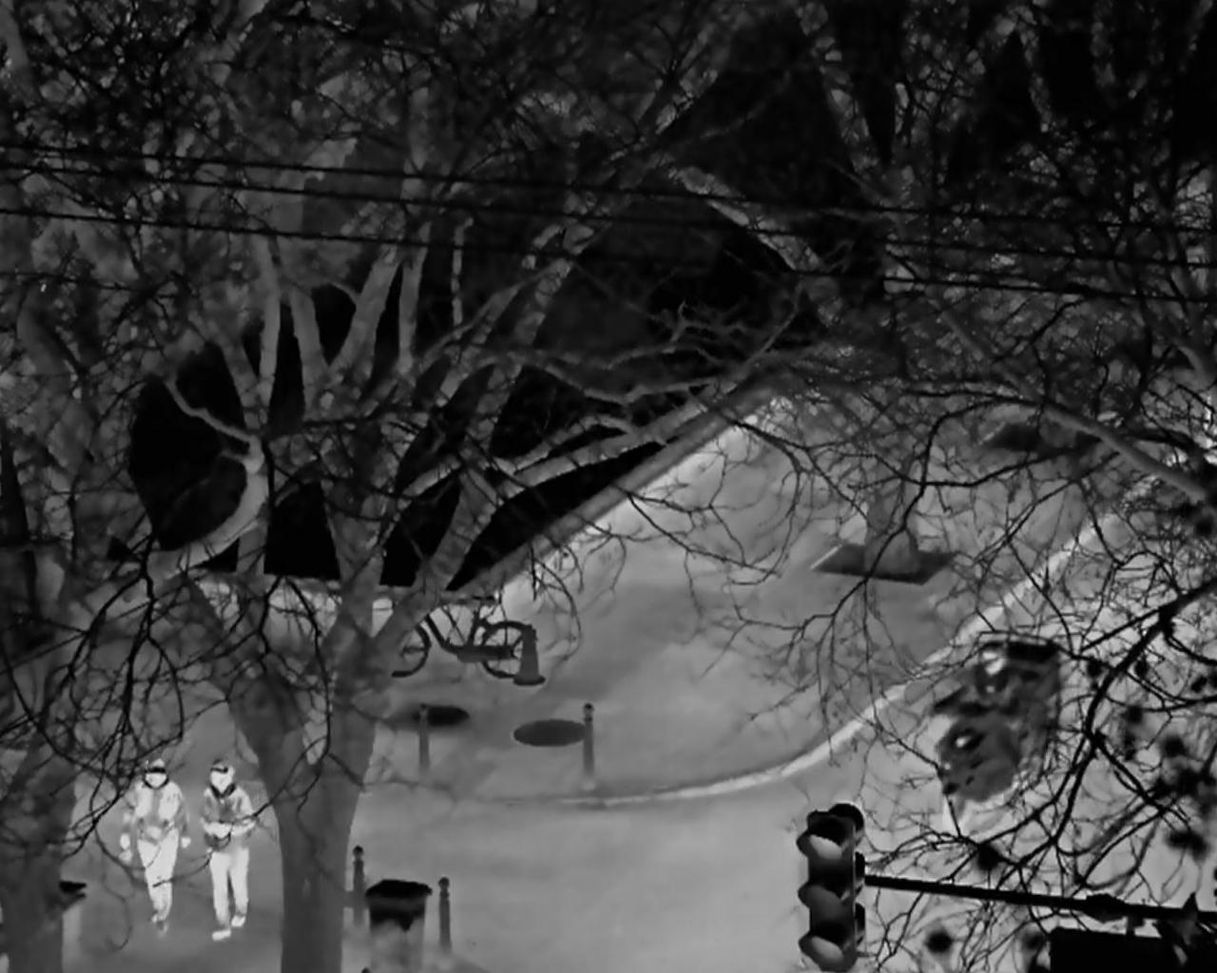person: (117, 758, 190, 937), (198, 757, 254, 944)
